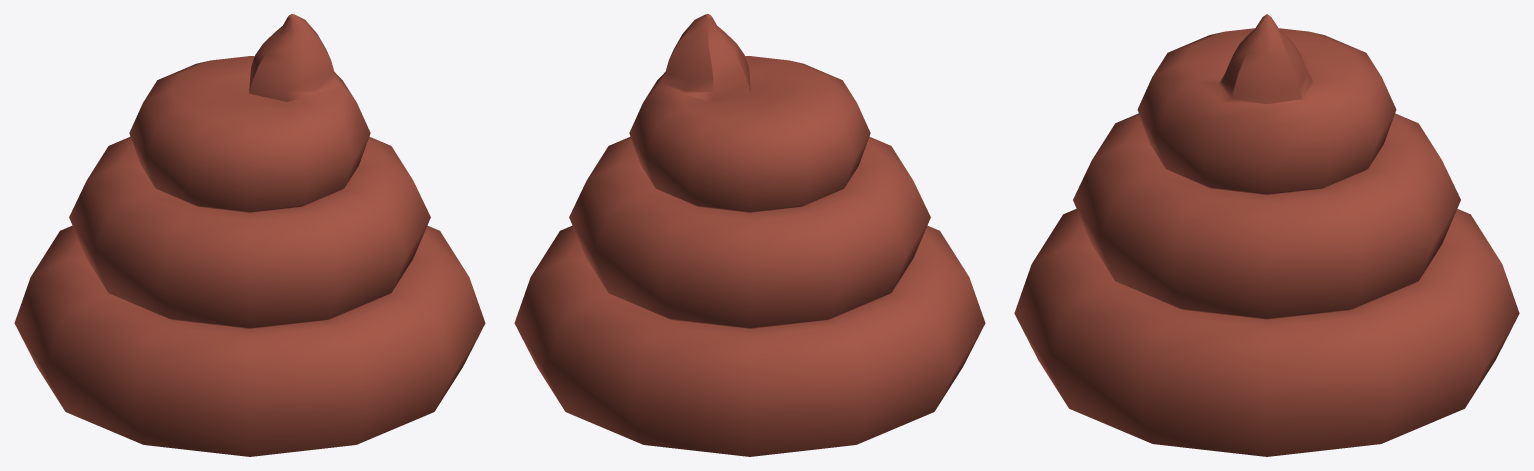
3 views of the same model, side by side, from view 1: azimuth 30°, elevation 25°; view 2: azimuth 150°, elevation 25°; view 3: azimuth 270°, elevation 25° (orthographic). The views are drawn at different scales.
Parts seen in each view (by area): view 1: model_0.053; view 2: model_0.053; view 3: model_0.053.
Part boxes in pixels (box(x1,y1,x2,y2)): model_0.053: box(14, 14, 485, 456); model_0.053: box(514, 14, 985, 456); model_0.053: box(1014, 14, 1519, 456).
Size of the model in its own units: 3.68 by 3.07 by 3.68.
